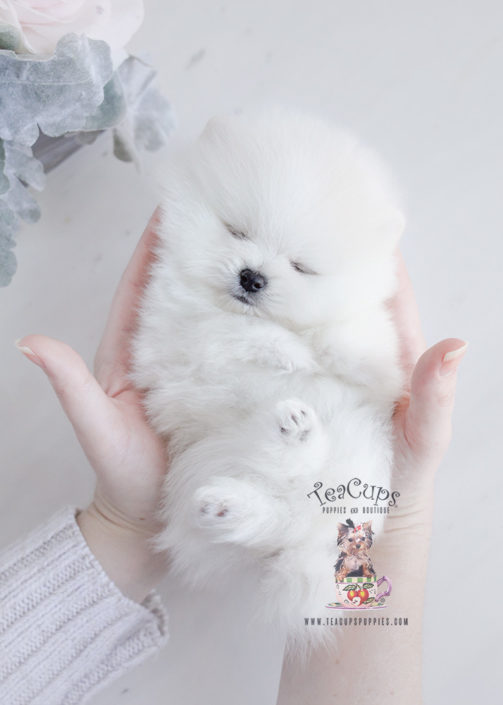pomeranian: (129, 87, 405, 626)
